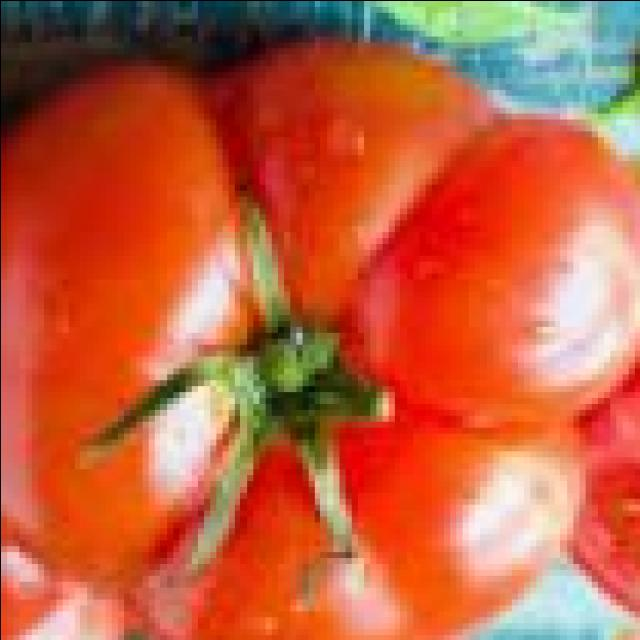Healthy: (0, 41, 609, 640)
